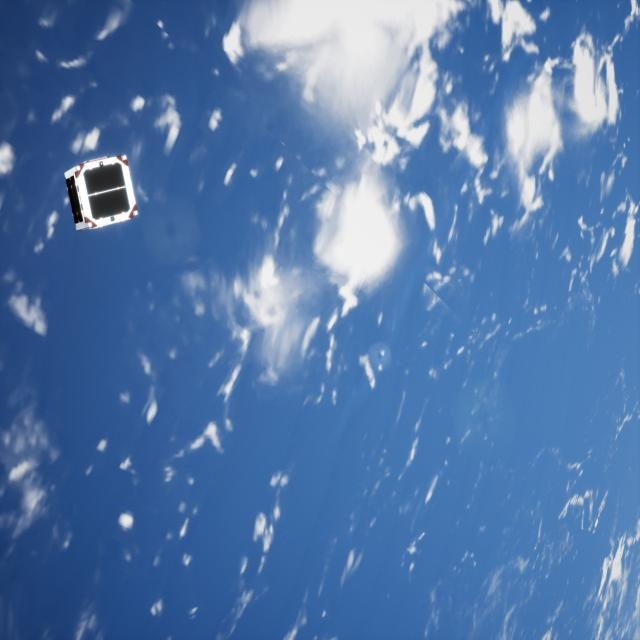satellite: (62, 149, 150, 239)
